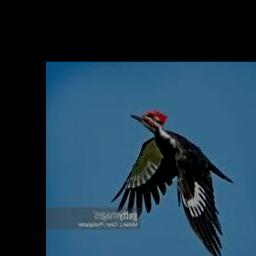Woodpecker: (111, 110, 234, 256)
